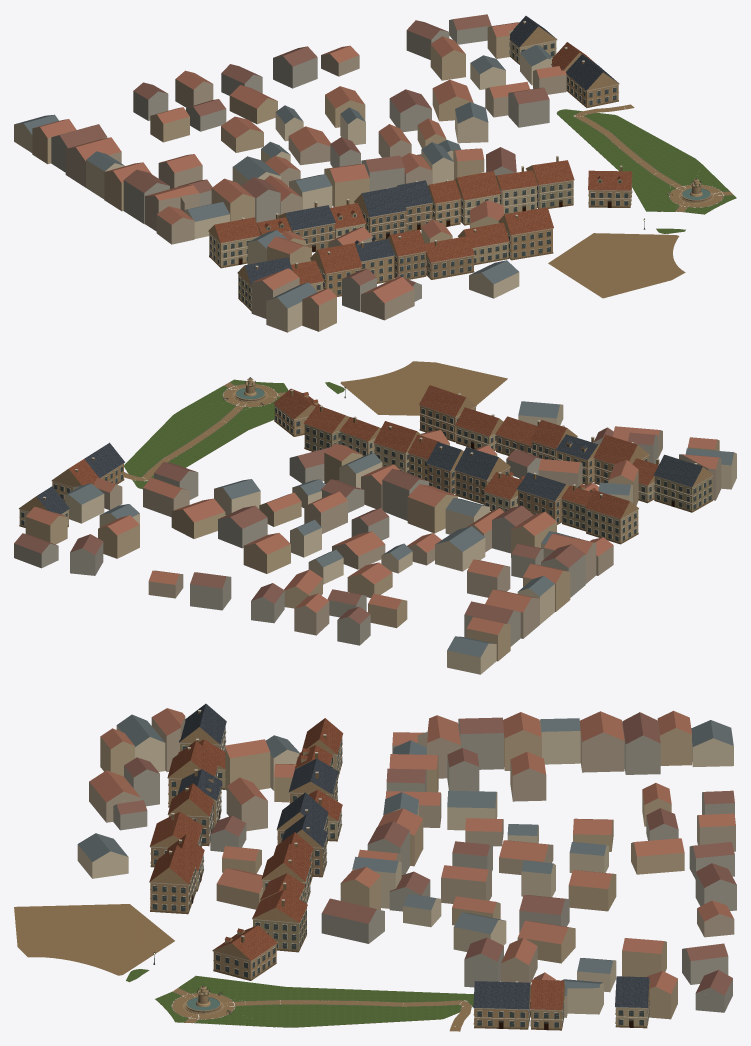
3 views of the same model, one above another, from view 1: azimuth 30°, elevation 25°; view 2: azimuth 150°, elevation 25°; view 3: azimuth 270°, elevation 25° (orthographic). The views are drawn at different scales.
Parts seen in each view (by area): view 1: C_-1_0; view 2: C_-1_0; view 3: C_-1_0.
Part boxes in pixels (<box>): C_-1_0: <box>14,14,736,332</box>; C_-1_0: <box>14,361,736,674</box>; C_-1_0: <box>14,703,736,1031</box>.
Bounding box in the file's own units: 192 × 15.44 × 206.
31 materials, 15 textured.
